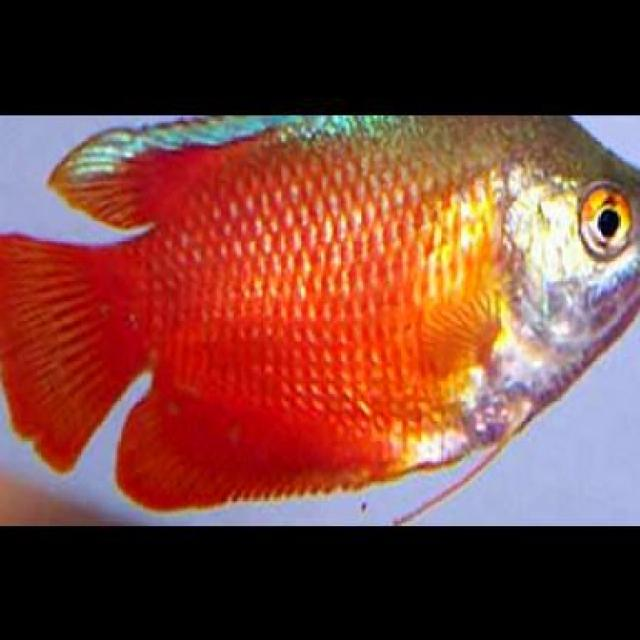Gourami: (0, 112, 638, 526)
